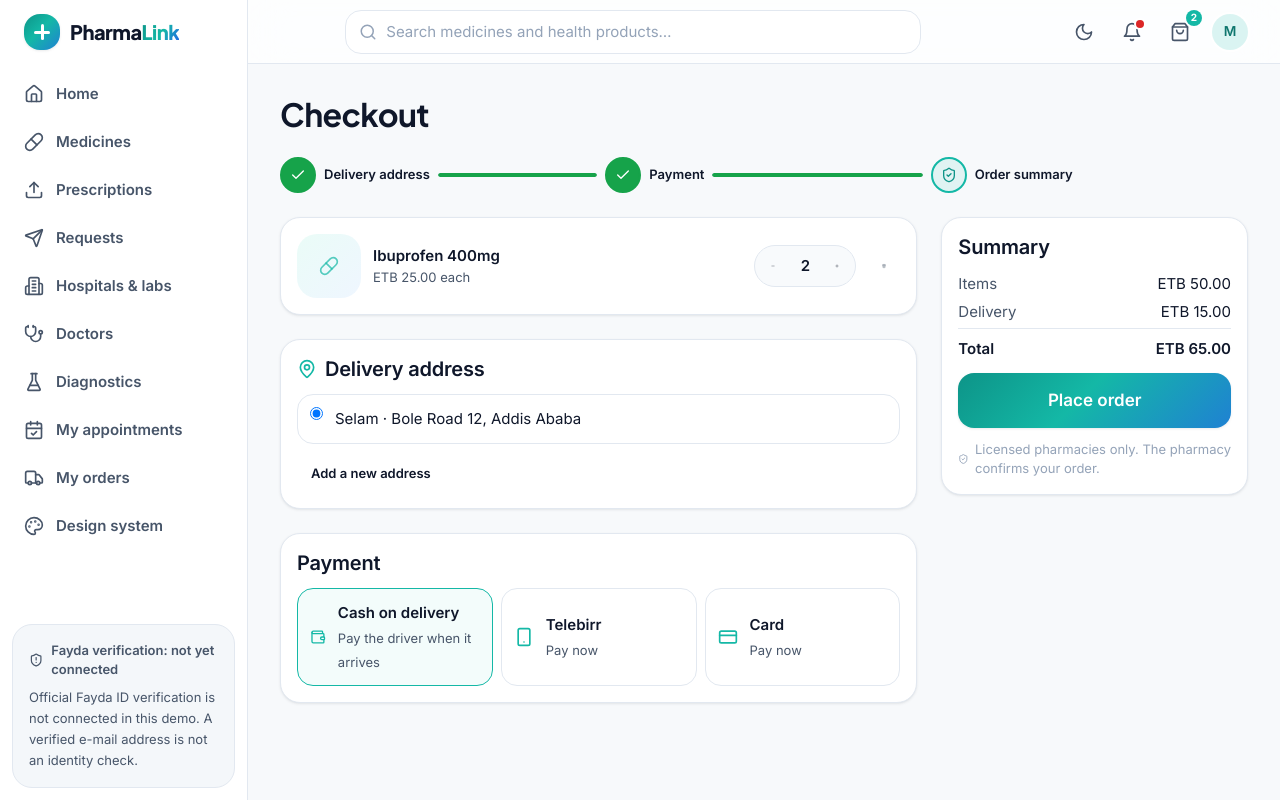
Test: checkout (Work 100) › shows the real cart and the server quote, and places a cash-on-delivery order with an idempotency key
Expected: the text "Ibuprofen 400mg" is shown, x1=373 y1=246 x2=500 y2=265
Expected: the text with test id "grand-total" shows "65", x1=1156 y1=339 x2=1231 y2=358
Click the button "Place order" at point(1095, 400), box x1=958 y1=373 x2=1231 y2=428
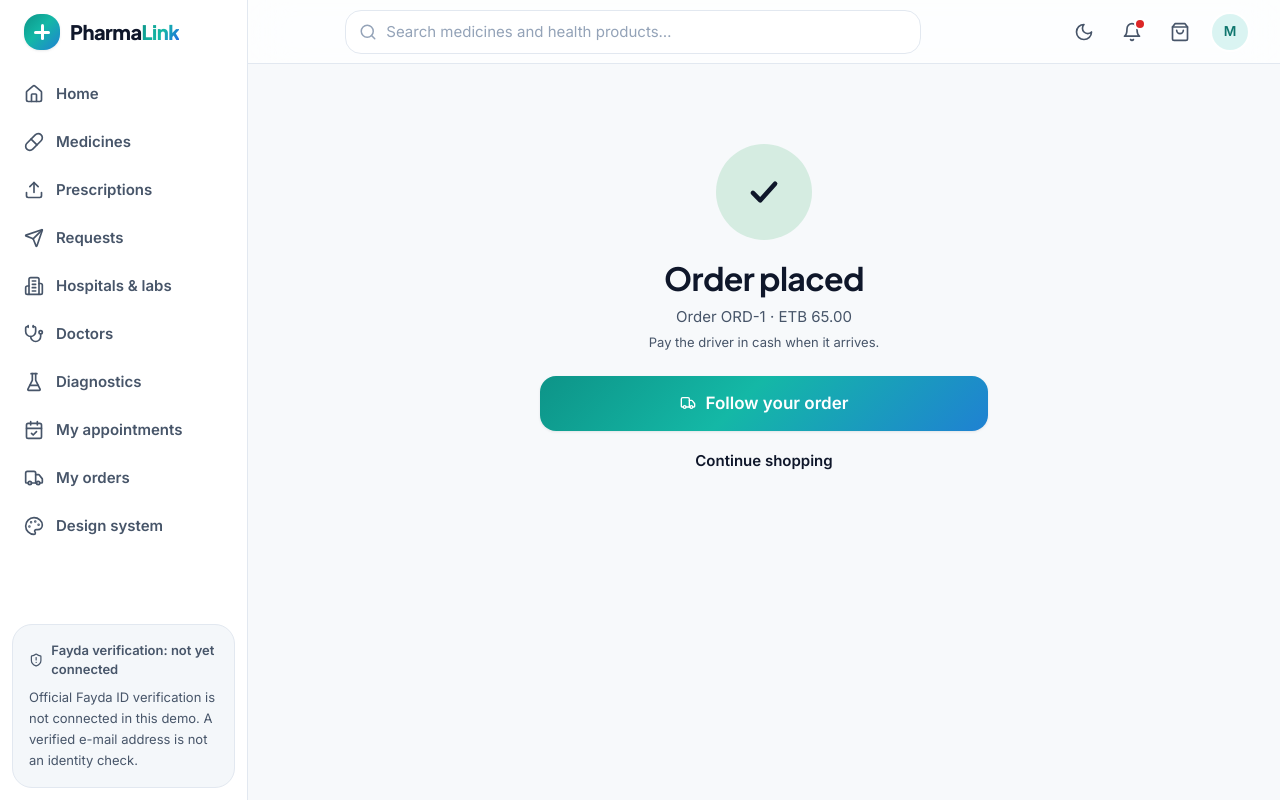
Now the heading "Order placed" is shown, box x1=664 y1=258 x2=864 y2=298
Now the text "Pay the driver in cash when it arrives." is shown, box x1=649 y1=334 x2=879 y2=350
